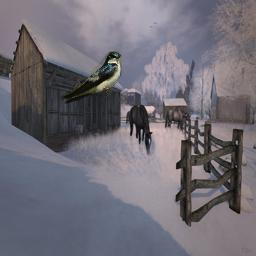Swallow: (61, 51, 122, 104)
